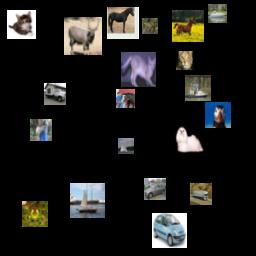automobile: (152, 213, 187, 248), (144, 178, 166, 200)
bird: (205, 102, 231, 128), (30, 119, 52, 141)
cat: (121, 52, 156, 87), (7, 10, 36, 39), (176, 51, 195, 70)
deer: (64, 17, 102, 55)
dog: (175, 125, 204, 154)
frog: (22, 201, 48, 227), (142, 18, 158, 34)
ship: (70, 183, 105, 218), (185, 75, 211, 101), (208, 4, 227, 23), (118, 138, 134, 154)
truck: (190, 183, 212, 205), (44, 83, 66, 105)
